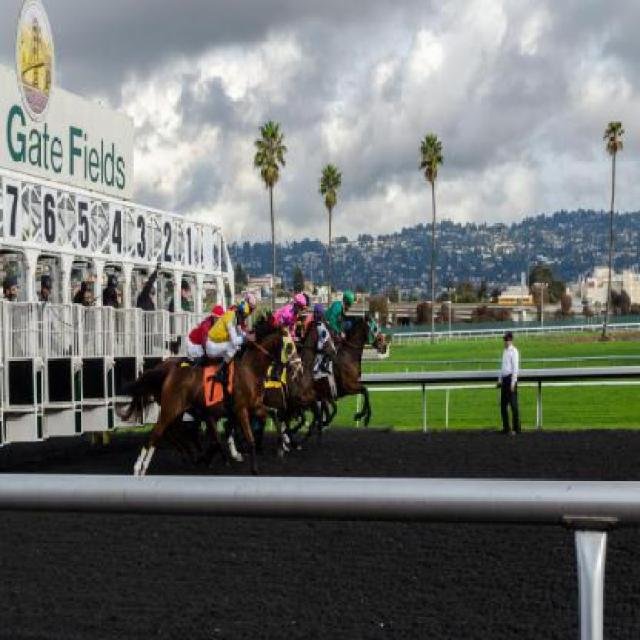Person: (0, 260, 192, 354), (186, 290, 357, 384), (495, 332, 520, 438)
